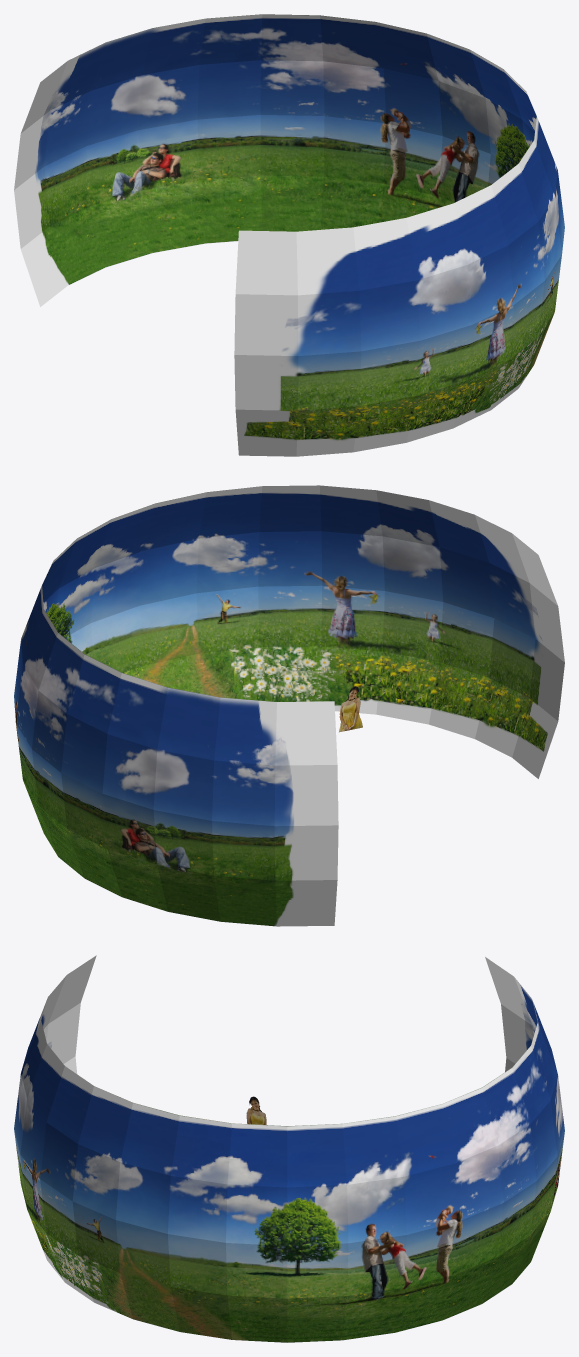
Rendered from Panorama_1_with_FG_v05.dae.
3 views of the same model, one above another, from view 1: azimuth 30°, elevation 25°; view 2: azimuth 150°, elevation 25°; view 3: azimuth 270°, elevation 25° (orthographic). The views are drawn at different scales.
Visible parts, largest first — view 1: ID23_001; view 2: ID23_001, ID14_001; view 3: ID23_001.
Boxes of the visible parts, x1=… form: ID23_001: x1=14, y1=14, x2=564, y2=456; ID23_001: x1=14, y1=485, x2=564, y2=926; ID14_001: x1=339, y1=686, x2=362, y2=732; ID23_001: x1=14, y1=955, x2=564, y2=1342.
Bounding box in the file's own units: 4191 × 5142 × 2231.
2 materials, 2 textured.
